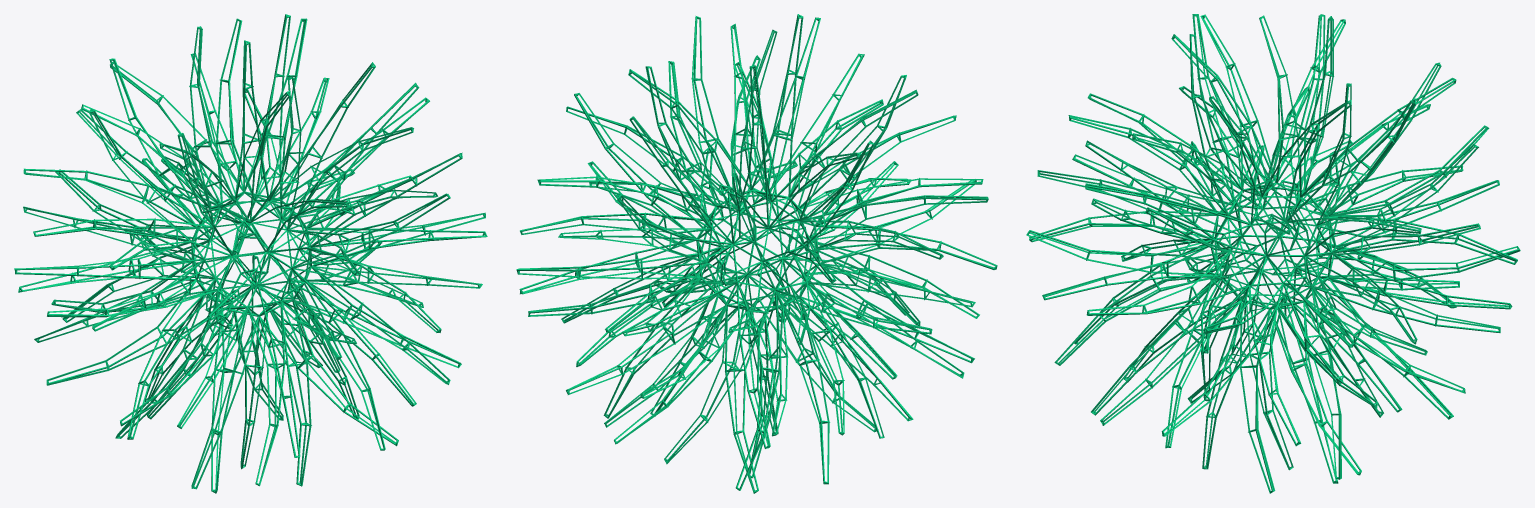
Rendered from Seeigel.fbx.
3 views of the same model, side by side, from view 1: azimuth 30°, elevation 25°; view 2: azimuth 150°, elevation 25°; view 3: azimuth 270°, elevation 25° (orthographic). The views are drawn at different scales.
Visible parts, largest first — view 1: Sweep; view 2: Sweep; view 3: Sweep.
Boxes of the visible parts, left/top/right/bottom form: Sweep: left=14, top=14, right=487, bottom=493; Sweep: left=516, top=14, right=997, bottom=493; Sweep: left=1026, top=14, right=1520, bottom=493.
Size of the model in its own units: 252 by 257 by 256.
